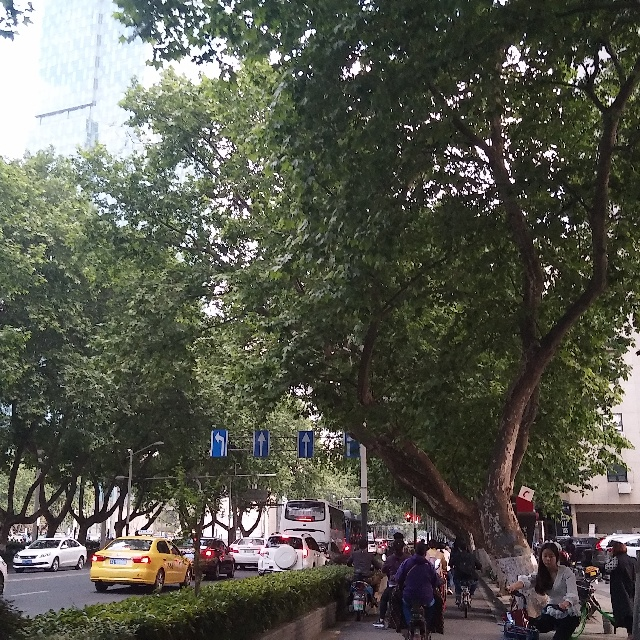left: (207, 426, 231, 460)
straight: (251, 426, 272, 463), (300, 426, 316, 461)
